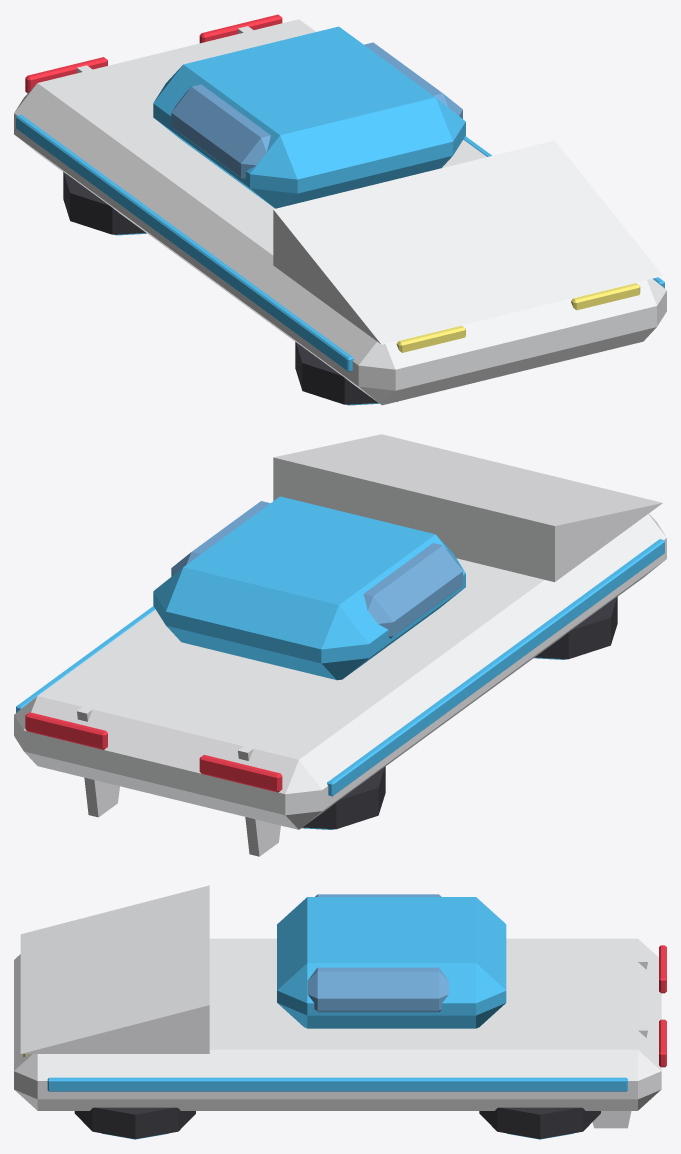
The model's file is HoverCar.fbx.
3 renders of one model, top to bottom at view 1: azimuth 30°, elevation 25°; view 2: azimuth 150°, elevation 25°; view 3: azimuth 270°, elevation 25°, orthographic. The views are drawn at different scales.
Parts seen in each view (by area): view 1: HoverCar, HoverCar_Hover; view 2: HoverCar, HoverCar_Hover; view 3: HoverCar, HoverCar_Hover.
Part boxes in pixels (x1,y1,x2,y2): HoverCar: [14, 14, 666, 405]; HoverCar_Hover: [63, 172, 397, 405]; HoverCar: [14, 434, 666, 856]; HoverCar_Hover: [301, 596, 617, 829]; HoverCar: [14, 885, 666, 1128]; HoverCar_Hover: [74, 1107, 600, 1139].
Size of the model in its own units: 4.74 by 2.65 by 9.68.
1 material, 1 textured.
